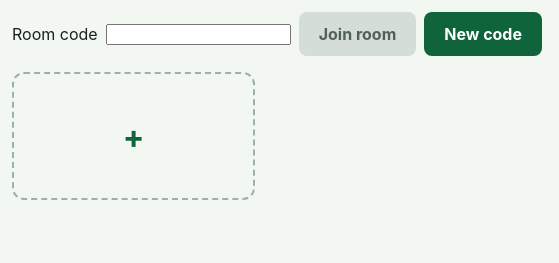
ChronometersComponent › cancels the name request with the Cancel button or Escape key
Click the button with class "add-tile".
click(134, 136)  # box [12, 72, 255, 200]
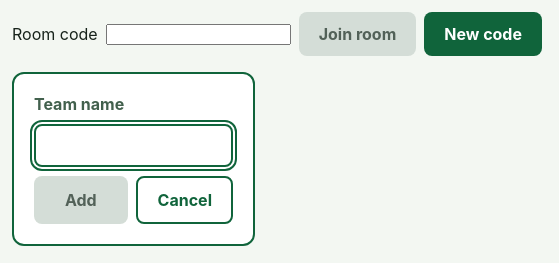
Type "Xabi" into the field with id "chronometer-name".
click(134, 145); type("Xabi")  # box [34, 124, 233, 167]
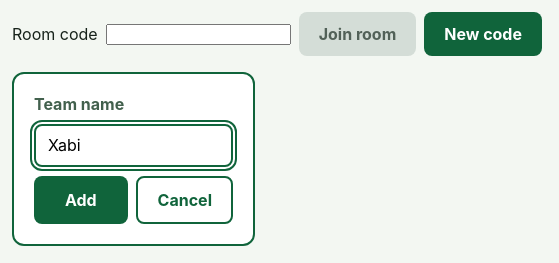
Click the button with class "secondary" showing "Cancel".
click(184, 200)  # box [136, 176, 233, 224]
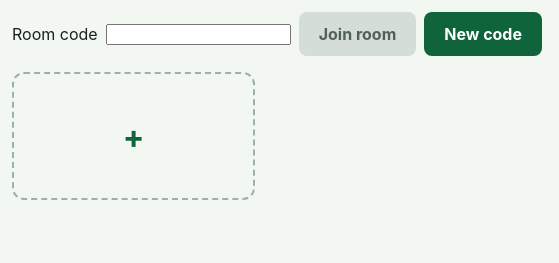
Check: the form with class "name-form" is gone
Click the button with class "add-tile".
click(134, 136)  # box [12, 72, 255, 200]
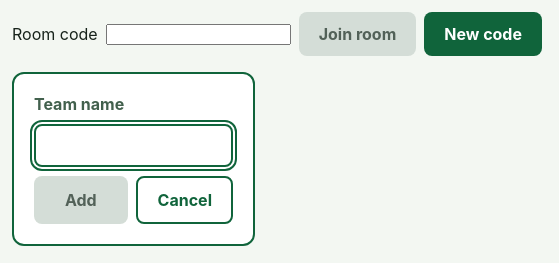
Press Escape in the field with id "chronometer-name", box [34, 124, 233, 167]
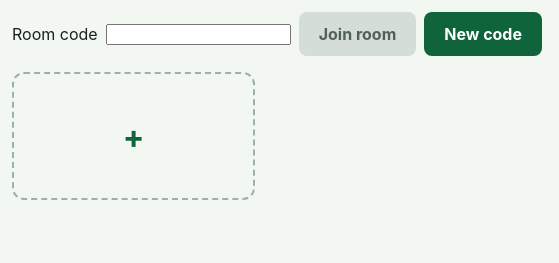
Check: the form with class "name-form" is gone
